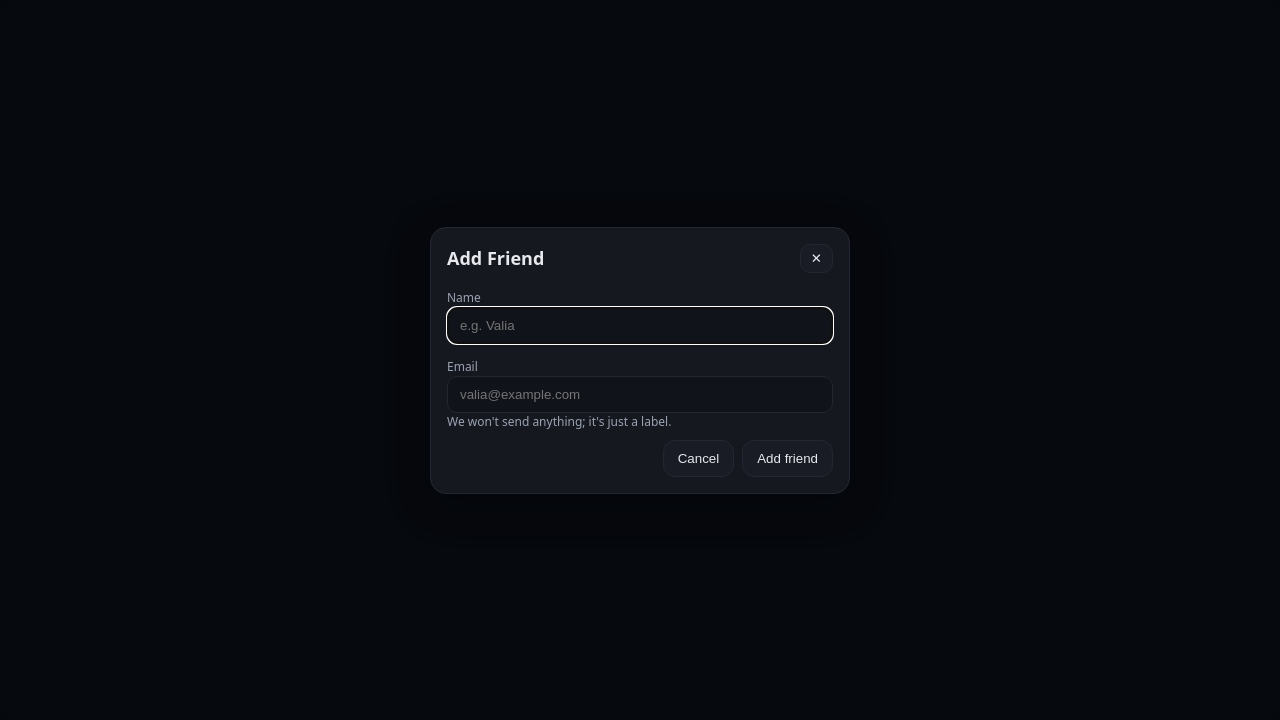
Scenario: AddFriendModal › shows error when submitting with empty name
This screenshot has width=1280, height=720.
Click the button "Add friend" at (788,458), box [742, 440, 833, 476]
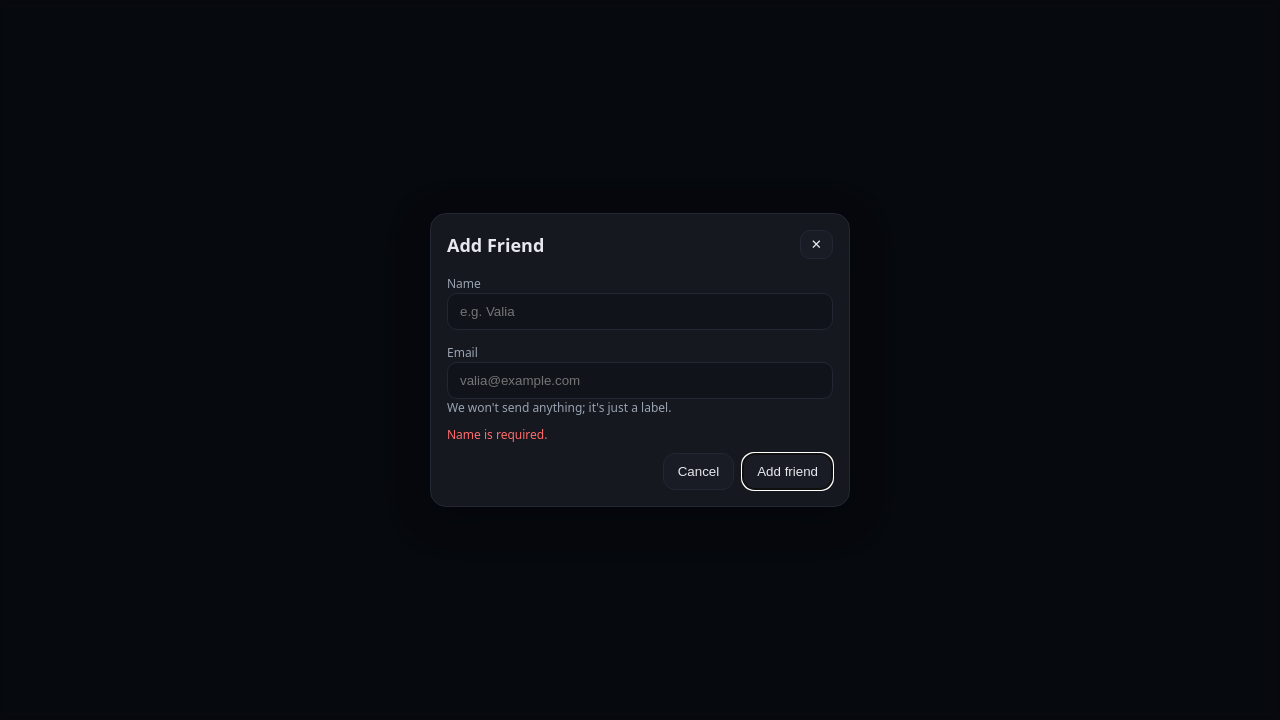
Expected: the message reads "Name is required.", [447, 426, 547, 443]
